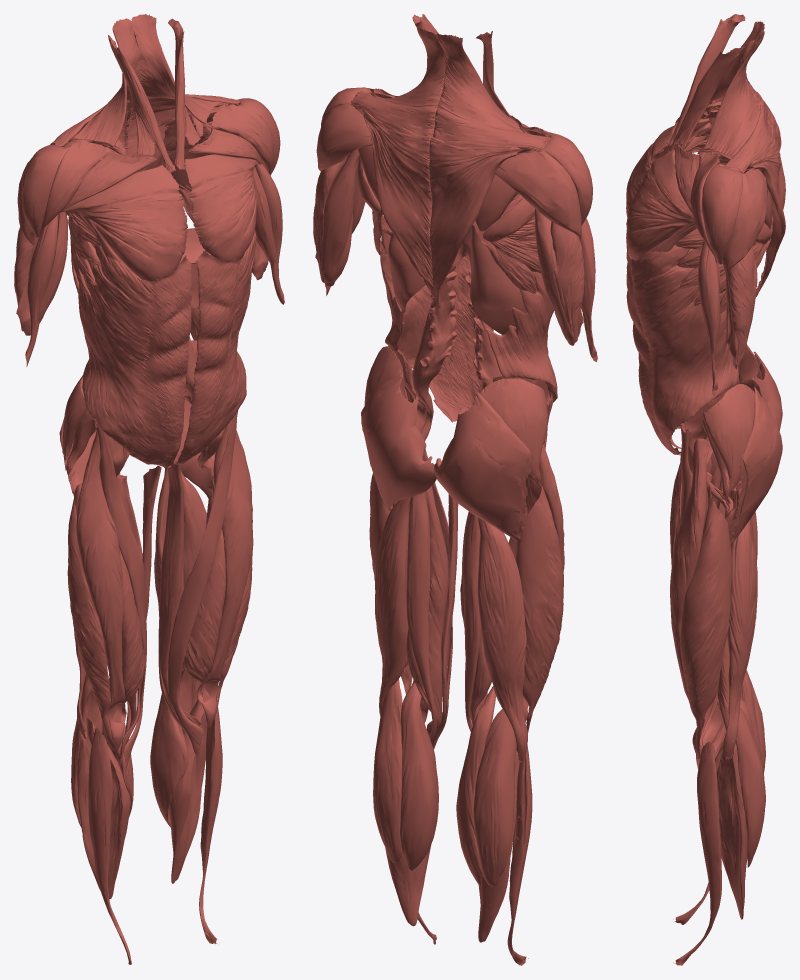
The model's file is muscular.glb.
3 renders of one model, left to right at view 1: azimuth 30°, elevation 25°; view 2: azimuth 150°, elevation 25°; view 3: azimuth 270°, elevation 25°, orthographic. The views are drawn at different scales.
Parts seen in each view (by area): view 1: external-oblique, quadriceps, pectoralis-major, sartorius, trapezius, deltoid, soleus, tibialis-anterior, biceps, gracilis, gastrocnemius, sternocleidomastoid (+11 smaller); view 2: trapezius, gastrocnemius, gluteus-maximus, biceps-femoris, external-oblique, quadriceps, deltoid, triceps, semitendinosus, diaphragm, semimembranosus, psoas-major (+11 smaller); view 3: external-oblique, quadriceps, trapezius, pectoralis-major, deltoid, biceps-femoris, gluteus-maximus, gastrocnemius, gluteus-medius, tibialis-anterior, soleus, sternocleidomastoid (+8 smaller).
Part boxes in pixels (left/top/right/bottom): external-oblique: left=78, top=230, right=256, bottom=467; quadriceps: left=67, top=419, right=253, bottom=751; pectoralis-major: left=60, top=128, right=261, bottom=302; sartorius: left=94, top=410, right=238, bottom=771; trapezius: left=50, top=14, right=239, bottom=173; deltoid: left=17, top=98, right=280, bottom=245; soleus: left=76, top=695, right=207, bottom=899; tibialis-anterior: left=88, top=698, right=222, bottom=964; biceps: left=25, top=139, right=284, bottom=366; gracilis: left=120, top=461, right=201, bottom=766; gastrocnemius: left=71, top=665, right=201, bottom=827; sternocleidomastoid: left=108, top=18, right=200, bottom=172; trapezius: left=351, top=26, right=550, bottom=307; gastrocnemius: left=373, top=679, right=516, bottom=887; gluteus-maximus: left=361, top=373, right=533, bottom=541; biceps-femoris: left=375, top=497, right=527, bottom=762; external-oblique: left=380, top=228, right=557, bottom=422; quadriceps: left=369, top=389, right=564, bottom=733; deltoid: left=316, top=87, right=592, bottom=238; triceps: left=313, top=149, right=584, bottom=345; semitendinosus: left=406, top=492, right=481, bottom=741; diaphragm: left=388, top=225, right=537, bottom=334; semimembranosus: left=406, top=486, right=491, bottom=736; psoas-major: left=412, top=265, right=501, bottom=440; external-oblique: left=626, top=244, right=738, bottom=455; quadriceps: left=670, top=438, right=731, bottom=758; trapezius: left=704, top=21, right=785, bottom=296; pectoralis-major: left=626, top=113, right=711, bottom=280; deltoid: left=690, top=97, right=767, bottom=274; biceps-femoris: left=717, top=491, right=757, bottom=759; gluteus-maximus: left=719, top=351, right=782, bottom=544; gastrocnemius: left=715, top=670, right=765, bottom=867; gluteus-medius: left=703, top=344, right=758, bottom=494; tibialis-anterior: left=673, top=741, right=721, bottom=965; soleus: left=716, top=743, right=747, bottom=919; sternocleidomastoid: left=667, top=14, right=745, bottom=151.
Size of the model in its own units: 0.9194 by 3.09 by 0.4878.
